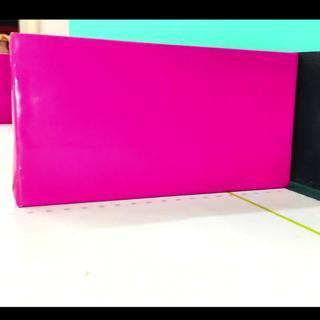xparking: (12, 33, 299, 206), (0, 55, 12, 125)
